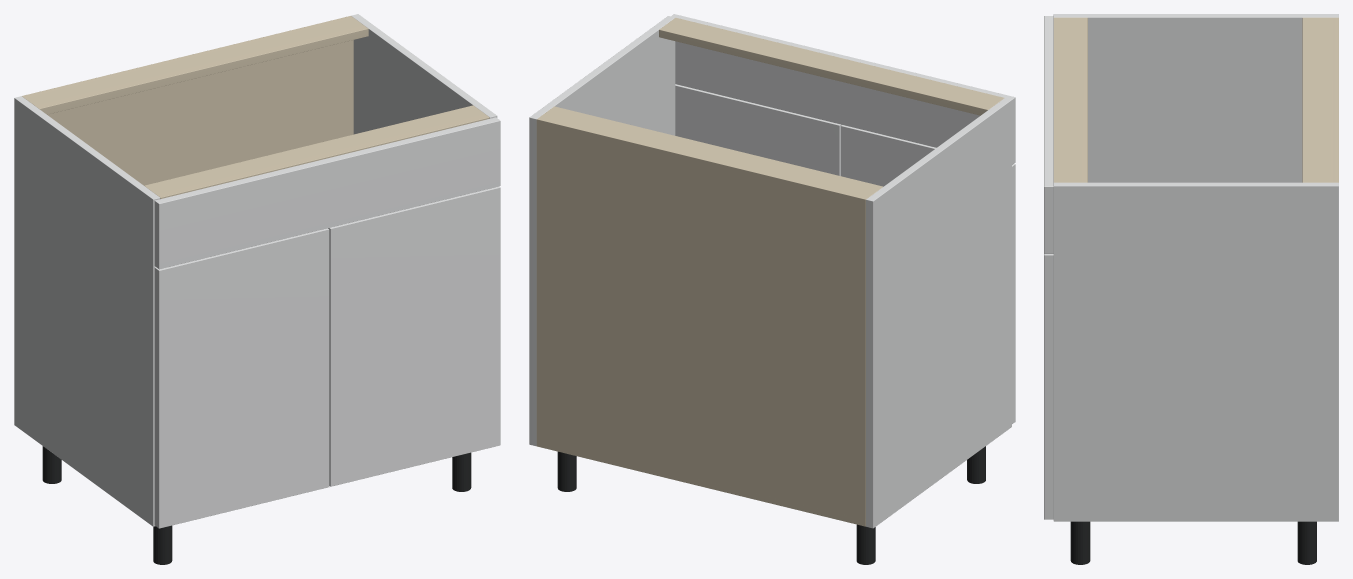
File: oppein-ply-pgw-sb33.glb
3 renders of one model, left to right at view 1: azimuth 30°, elevation 25°; view 2: azimuth 150°, elevation 25°; view 3: azimuth 270°, elevation 25°, orthographic. The views are drawn at different scales.
Visible parts, largest first — view 1: Cabinet side, Door, Door.001, Cabinet back, False drawer front, Cabinet side.001, Top support rail, Top support rail.001, Adjustable foot.001, Adjustable foot.003, Adjustable foot; view 2: Cabinet back, Cabinet side, False drawer front, Cabinet side.001, Door.001, Top support rail.001, Top support rail, Door, Adjustable foot, Adjustable foot.002; view 3: Cabinet side.001, Cabinet side, Top support rail.001, Top support rail, Door.001, False drawer front, Cabinet back, Adjustable foot.003, Adjustable foot.002.
Boxes of the visible parts, x1,y1,x2,y2 form: Cabinet side: (14,96,160,526); Door: (154,228,329,528); Door.001: (328,186,500,486); Cabinet back: (22,16,353,185); False drawer front: (154,117,500,269); Cabinet side.001: (351,14,497,134); Top support rail: (24,17,368,114); Top support rail.001: (144,105,489,198); Adjustable foot.001: (153,525,172,564); Adjustable foot.003: (452,452,471,491); Adjustable foot: (42,446,61,483); Cabinet back: (536,117,867,526); Cabinet side: (866,98,1011,528); False drawer front: (671,14,1015,164); Cabinet side.001: (529,16,675,446); Door.001: (675,84,841,175); Top support rail.001: (659,17,1004,115); Top support rail: (540,106,883,198); Door: (841,125,1015,423); Adjustable foot: (856,524,875,564); Adjustable foot.002: (557,451,576,491); Cabinet side.001: (1053,182,1338,521); Cabinet side: (1053,14,1338,182); Top support rail.001: (1053,17,1087,182); Top support rail: (1302,17,1333,182); Door.001: (1044,254,1053,519); False drawer front: (1044,16,1053,253); Cabinet back: (1333,17,1338,182); Adjustable foot.003: (1070,521,1090,564); Adjustable foot.002: (1297,521,1316,564).
Bounding box in the file's own units: 0.8382 × 0.8763 × 0.6064.
